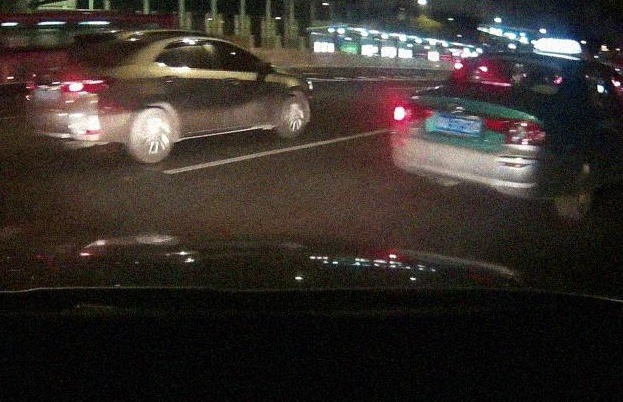L_light: (392, 101, 434, 124), (26, 71, 42, 92)
R_light: (484, 117, 547, 145), (60, 73, 117, 94)
T_light: (480, 80, 512, 87), (79, 37, 99, 43)
night-left: (389, 52, 574, 221)
night-no: (24, 30, 160, 165)
